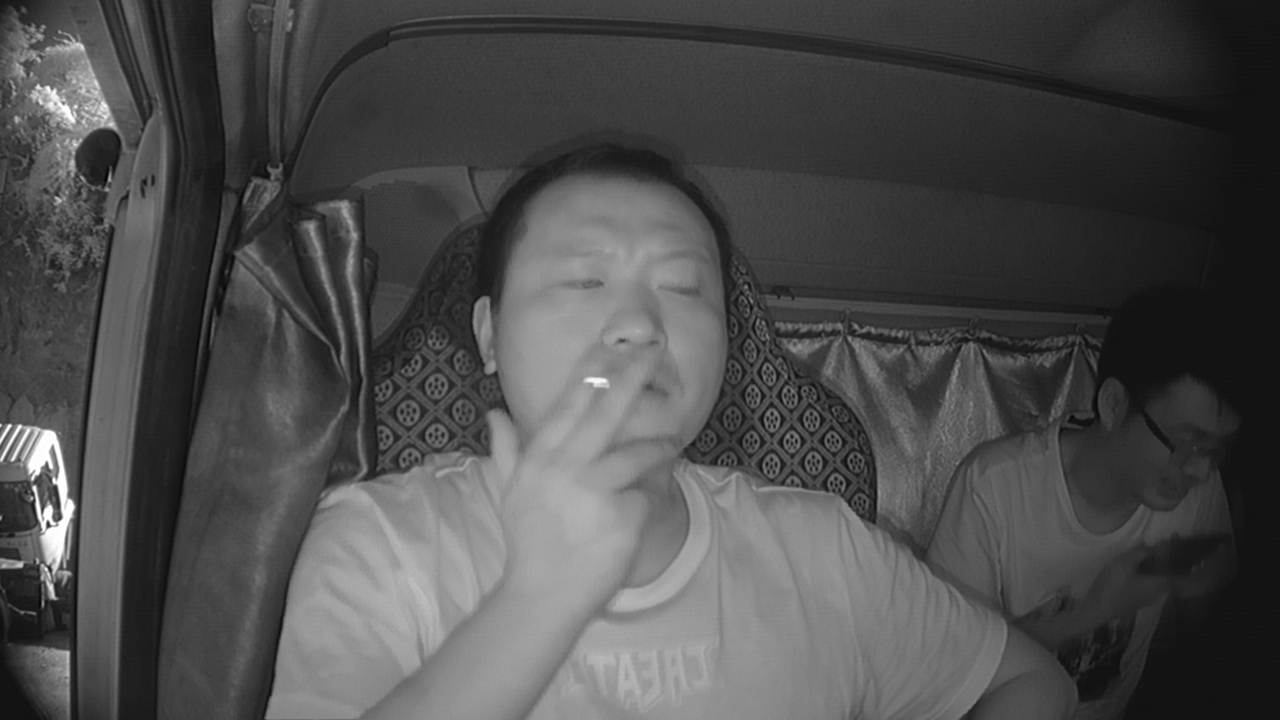hand: (523, 349, 680, 546)
